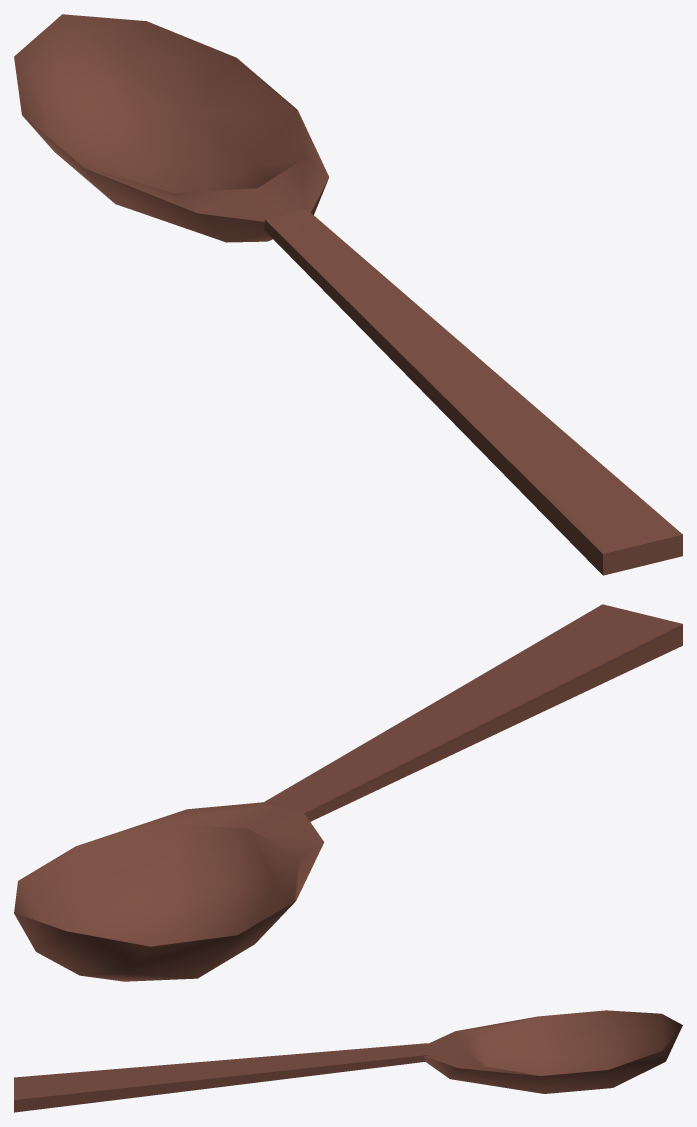
Rendered from prop_019.glb.
3 views of the same model, one above another, from view 1: azimuth 30°, elevation 25°; view 2: azimuth 150°, elevation 25°; view 3: azimuth 270°, elevation 25° (orthographic). The views are drawn at different scales.
Parts seen in each view (by area): view 1: prop_019; view 2: prop_019; view 3: prop_019.
Boxes of the visible parts, left/top/right/bottom form: prop_019: left=14, top=14, right=682, bottom=575; prop_019: left=14, top=604, right=682, bottom=981; prop_019: left=14, top=1010, right=682, bottom=1112.
Bounding box in the file's own units: 0.0581 × 0.0329 × 0.2652.
1 material, 1 textured.
